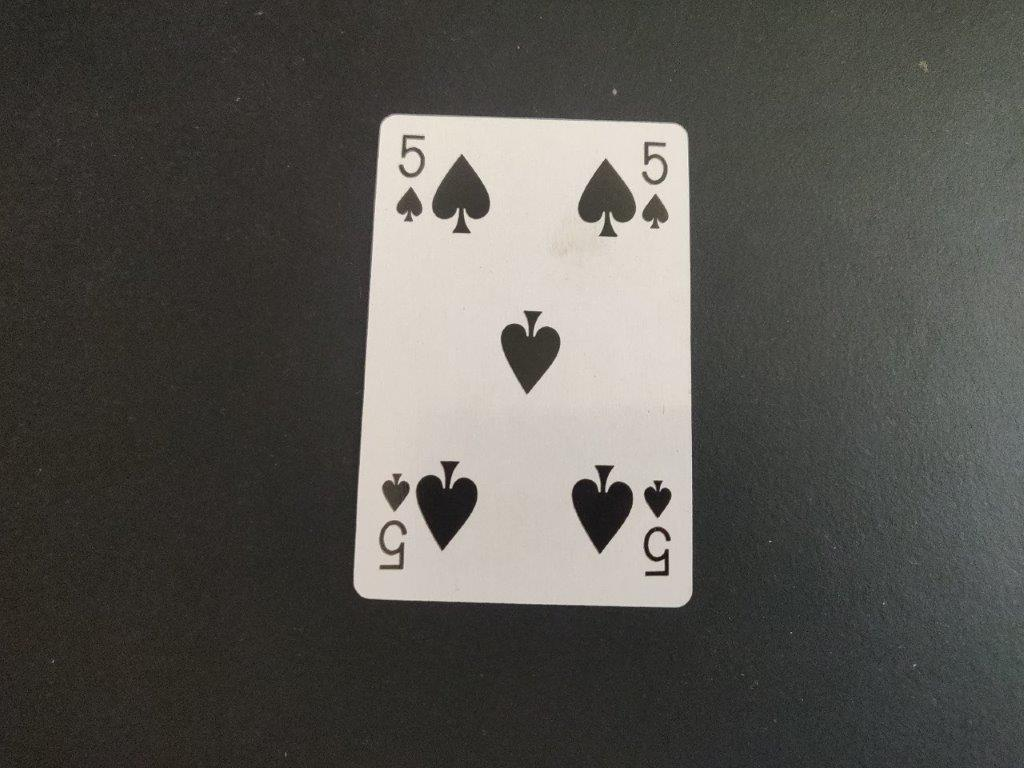5S: (392, 129, 431, 229), (638, 135, 675, 235)
